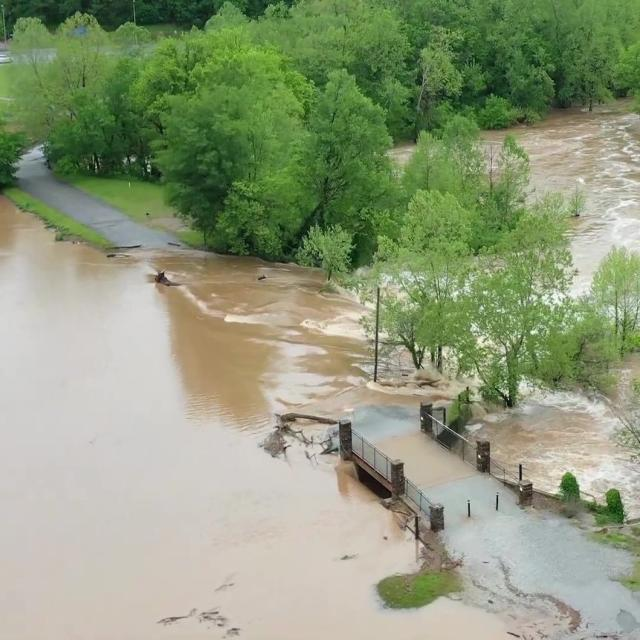flooded_areas: (0, 162, 636, 468)
